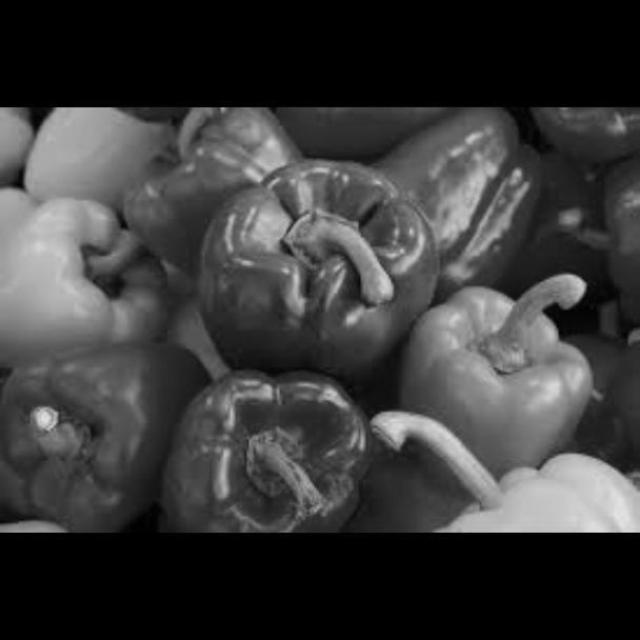ot chuong: (198, 161, 495, 361), (160, 357, 400, 531), (0, 343, 217, 531), (404, 276, 602, 472), (368, 106, 548, 296), (0, 175, 194, 349), (109, 106, 323, 254), (416, 431, 640, 532), (554, 147, 640, 337), (517, 106, 639, 182), (0, 106, 112, 186)
